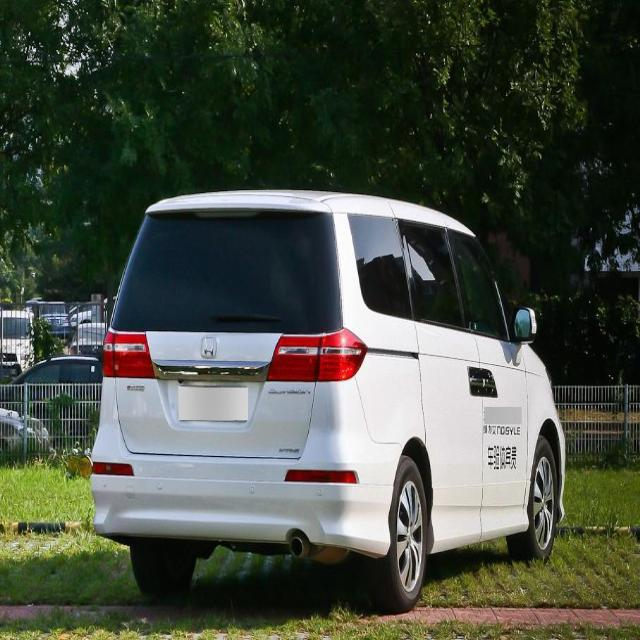back_glass: (108, 211, 343, 334)
back_left_side_light: (101, 329, 156, 379)
back_right_side_light: (266, 328, 368, 383)
front_right_side_door: (444, 222, 528, 545)
front_right_side_mirror: (513, 304, 537, 344)
rear_bumper: (90, 378, 396, 554)
wheel: (367, 461, 427, 614), (522, 439, 558, 560)
